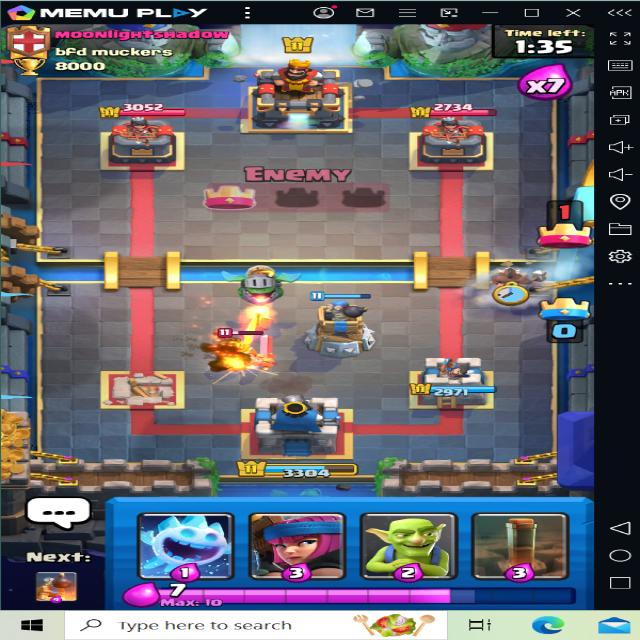golden-knight: (198, 328, 271, 374)
